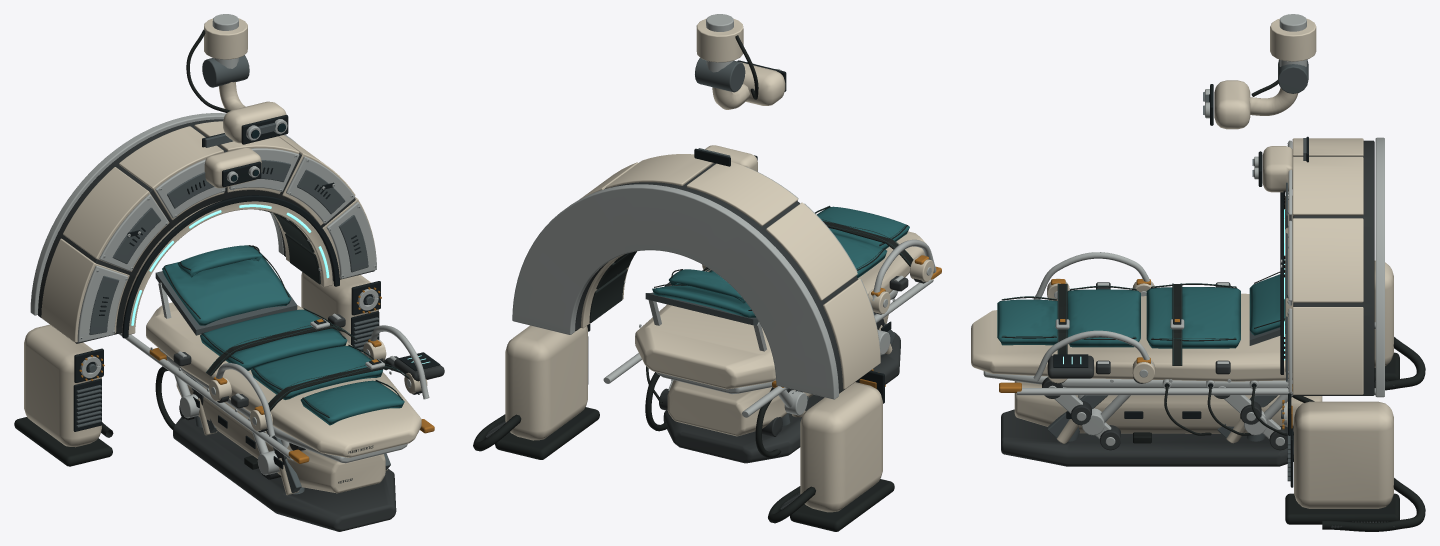
File: examination-standard.glb
The picture shows the model from 3 angles, left to right: view 1: azimuth 30°, elevation 25°; view 2: azimuth 150°, elevation 25°; view 3: azimuth 270°, elevation 25°; orthographic projection. The views are drawn at different scales.
Parts seen in each view (by area): view 1: examination__Ceramic medical shell, examination__Satin aluminium, examination__Medical upholstery, examination__Coated pressure frame, examination__Recessed titanium panels, examination__Recess and gasket, examination__Restraint webbing, examination__Layered silicone edge seal, examination__Ochre anodized service fittings, examination__Upholstery seam thread, examination__Scanner sensing indicator; view 2: examination__Ceramic medical shell, examination__Satin aluminium, examination__Coated pressure frame, examination__Restraint webbing, examination__Medical upholstery, examination__Recessed titanium panels, examination__Layered silicone edge seal, examination__Recess and gasket; view 3: examination__Ceramic medical shell, examination__Coated pressure frame, examination__Satin aluminium, examination__Medical upholstery, examination__Restraint webbing, examination__Recessed titanium panels, examination__Recess and gasket, examination__Upholstery seam thread, examination__Ochre anodized service fittings.
Boxes of the visible parts, left/top/right/bottom form: examination__Ceramic medical shell: left=24, top=18, right=427, bottom=495; examination__Satin aluminium: left=30, top=14, right=429, bottom=475; examination__Medical upholstery: left=162, top=245, right=404, bottom=425; examination__Coated pressure frame: left=38, top=119, right=444, bottom=531; examination__Recessed titanium panels: left=76, top=55, right=390, bottom=494; examination__Recess and gasket: left=73, top=114, right=440, bottom=469; examination__Restraint webbing: left=14, top=29, right=409, bottom=469; examination__Layered silicone edge seal: left=262, top=210, right=320, bottom=284; examination__Ochre anodized service fittings: left=79, top=287, right=434, bottom=463; examination__Upholstery seam thread: left=203, top=308, right=409, bottom=416; examination__Scanner sensing indicator: left=131, top=204, right=429, bottom=363; examination__Ceramic medical shell: left=505, top=18, right=934, bottom=512; examination__Satin aluminium: left=512, top=14, right=936, bottom=417; examination__Coated pressure frame: left=486, top=163, right=925, bottom=510; examination__Restraint webbing: left=473, top=35, right=912, bottom=531; examination__Medical upholstery: left=652, top=206, right=909, bottom=317; examination__Recessed titanium panels: left=645, top=57, right=895, bottom=425; examination__Layered silicone edge seal: left=589, top=251, right=636, bottom=322; examination__Recess and gasket: left=587, top=60, right=891, bottom=403; examination__Ceramic medical shell: left=971, top=18, right=1393, bottom=508; examination__Coated pressure frame: left=1001, top=140, right=1394, bottom=528; examination__Satin aluminium: left=983, top=14, right=1384, bottom=445; examination__Medical upholstery: left=997, top=273, right=1285, bottom=348; examination__Restraint webbing: left=1001, top=80, right=1425, bottom=531; examination__Recessed titanium panels: left=1047, top=59, right=1308, bottom=481; examination__Recess and gasket: left=1053, top=84, right=1308, bottom=487; examination__Upholstery seam thread: left=1002, top=283, right=1235, bottom=364; examination__Ochre anodized service fittings: left=999, top=279, right=1292, bottom=429.
Bounding box in the file's own units: 2.85 × 3.23 × 3.14.
